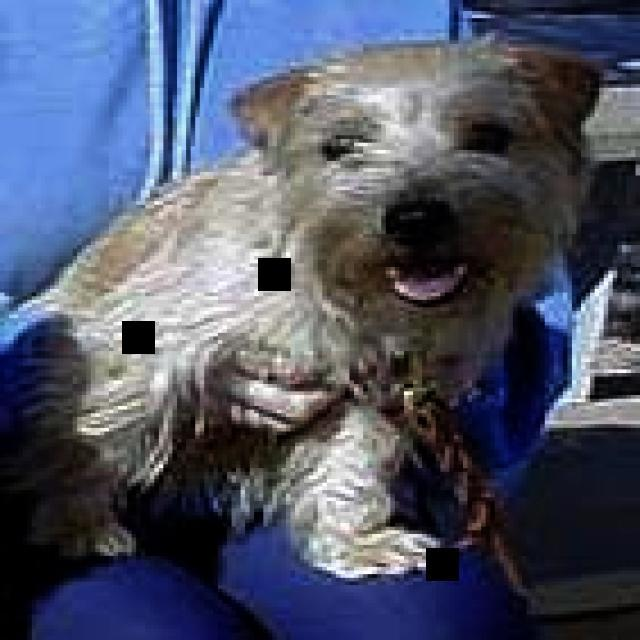adult_dog: (1, 43, 604, 581)
